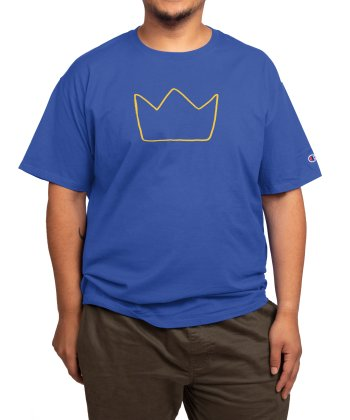design: (130, 86, 220, 145)
